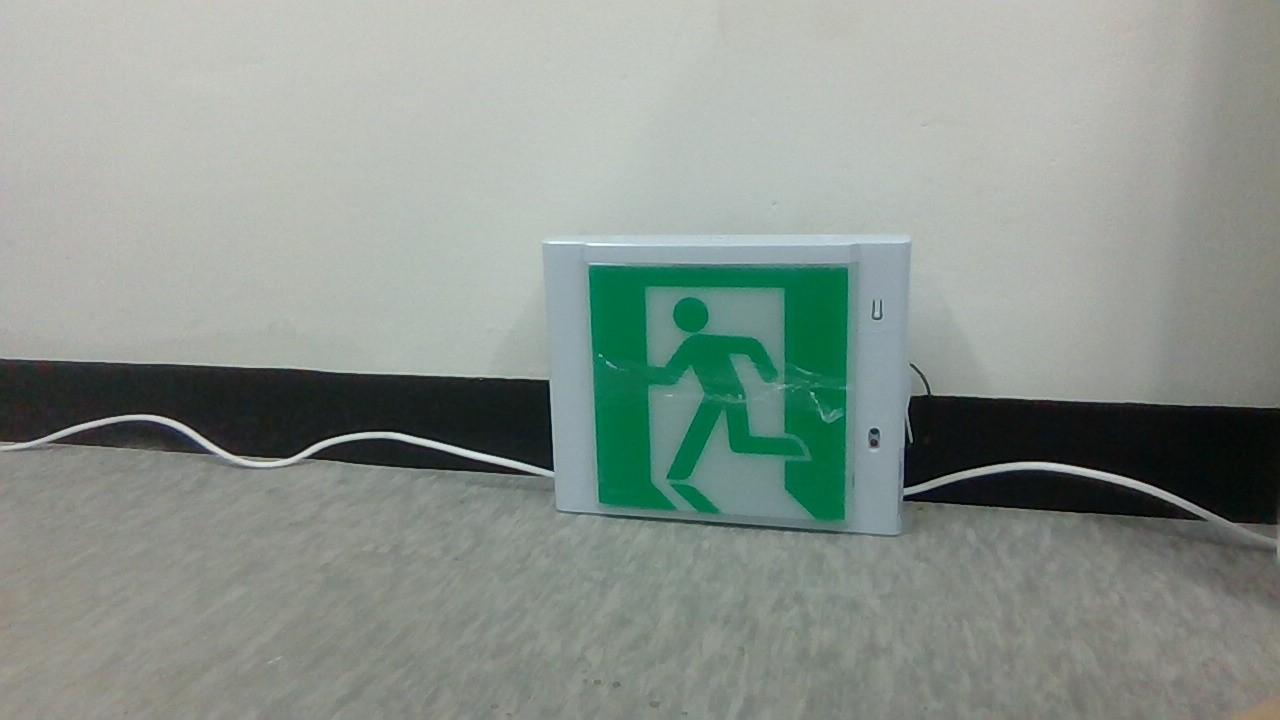emergency_exit: (541, 233, 913, 537)
